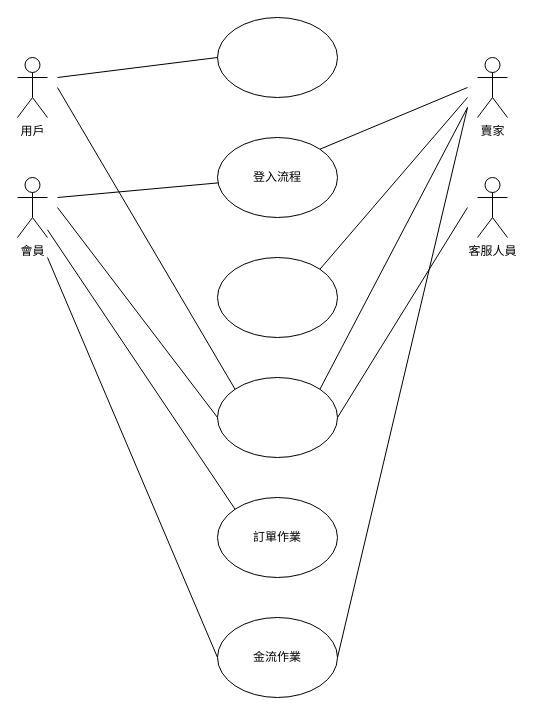
Some shapes in this 534 by 715 pixel diagram are drawn without their labels. Here are the shapes that lost their labels. From the top down, the centre of each, then its label:
At point 277,57: "註冊流程".
At point 277,297: "寄送作業".
At point 277,417: "訊息作業".
